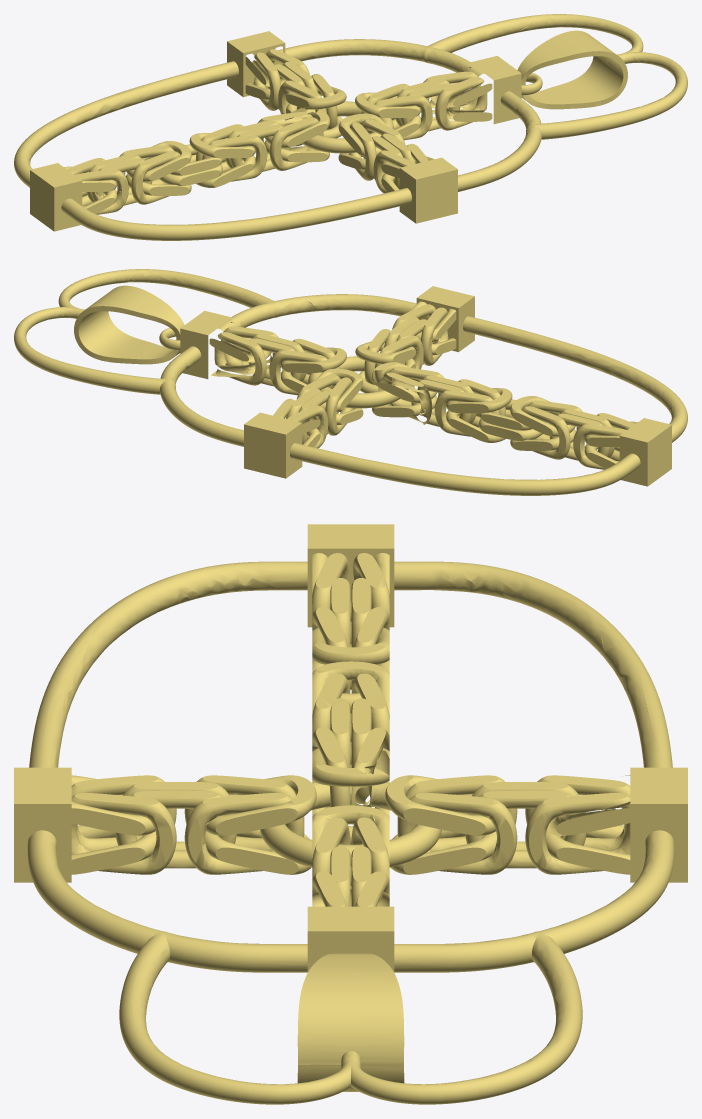
File: kral_hac.glb
3 views of the same model, one above another, from view 1: azimuth 30°, elevation 25°; view 2: azimuth 150°, elevation 25°; view 3: azimuth 270°, elevation 25° (orthographic). The views are drawn at different scales.
Visible parts, largest first — view 1: Renderer Node; view 2: Renderer Node; view 3: Renderer Node.
Part boxes in pixels (left/top/right/bottom): Renderer Node: left=14, top=14, right=687, bottom=240; Renderer Node: left=14, top=269, right=687, bottom=495; Renderer Node: left=14, top=524, right=687, bottom=1104.
Bounding box in the file's own units: 65.75 × 5.71 × 35.
